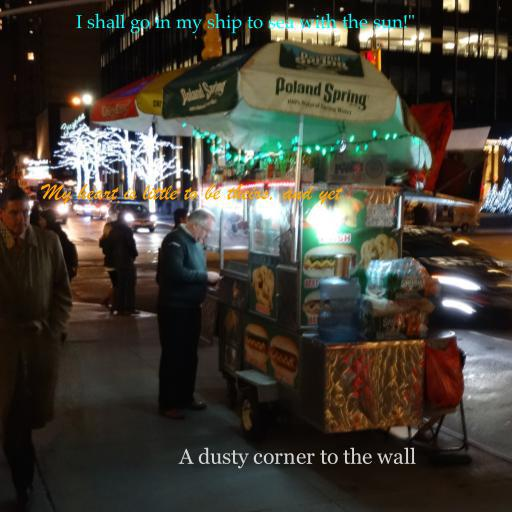Brush Script MT: (41, 183, 341, 205)
Georgia: (178, 447, 416, 469)
Palatino: (75, 13, 415, 34)
